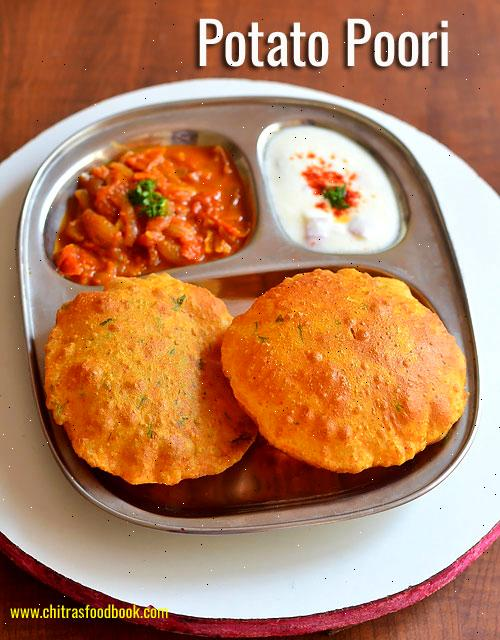puri: (33, 287, 477, 490)
